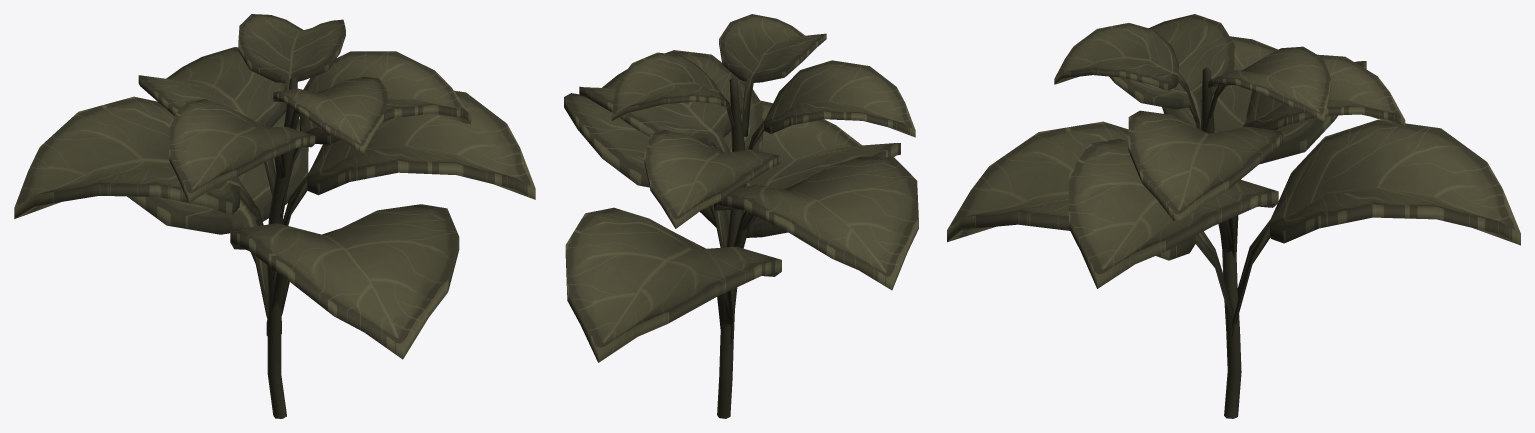
The model's file is groundnuts.fbx.
3 views of the same model, side by side, from view 1: azimuth 30°, elevation 25°; view 2: azimuth 150°, elevation 25°; view 3: azimuth 270°, elevation 25° (orthographic). The views are drawn at different scales.
Visible parts, largest first — view 1: groundnuts; view 2: groundnuts; view 3: groundnuts.
Boxes of the visible parts, x1=… form: groundnuts: x1=14, y1=14, x2=535, y2=418; groundnuts: x1=564, y1=14, x2=918, y2=418; groundnuts: x1=947, y1=14, x2=1520, y2=418.
Bounding box in the file's own units: 34.77 × 29.47 × 41.31.
Materials: 1 (1 with a texture image).
